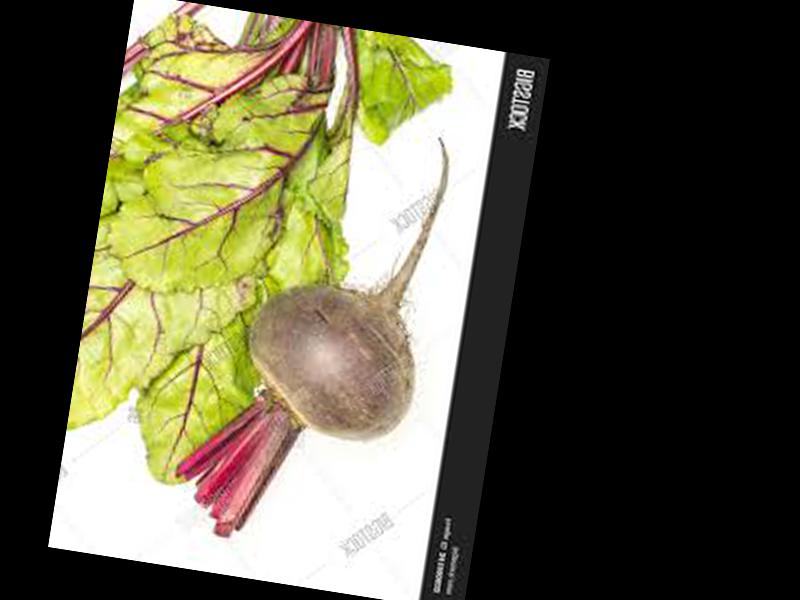Beet: (167, 105, 454, 563)
